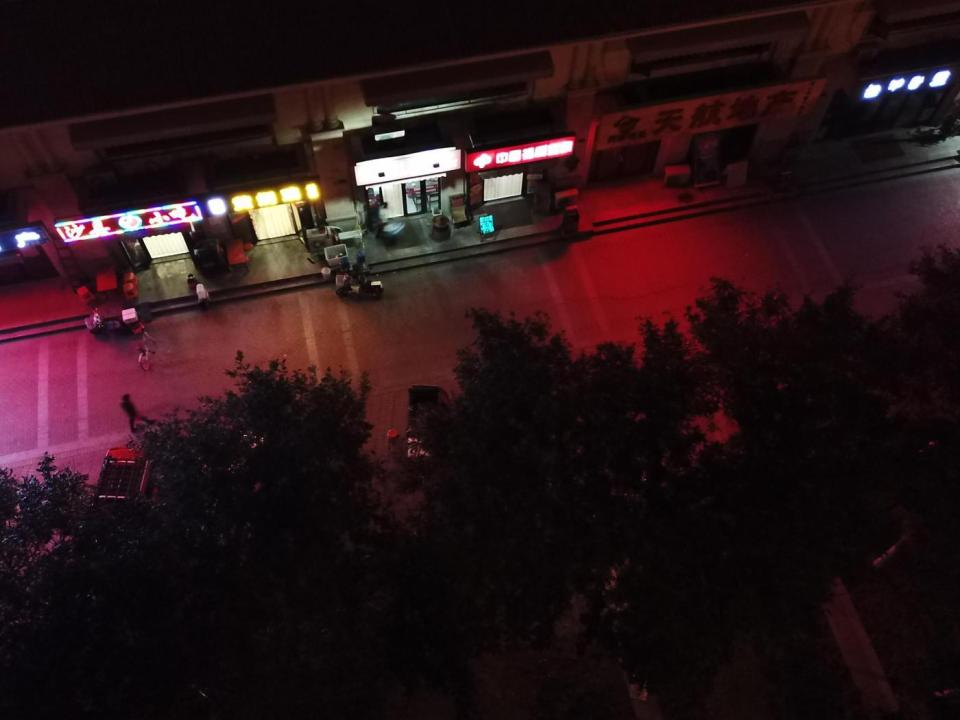car: (90, 444, 164, 532)
truck: (404, 385, 446, 475)
